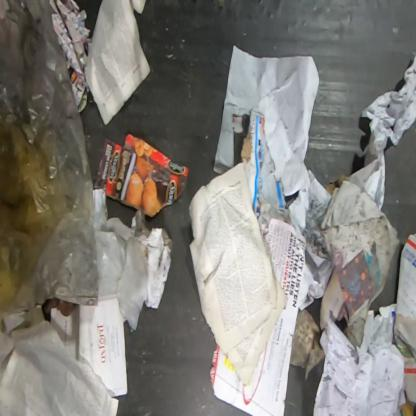cardboard: (93, 132, 190, 218), (232, 110, 287, 219), (392, 233, 415, 406)
soft_plastic: (0, 0, 100, 325)
